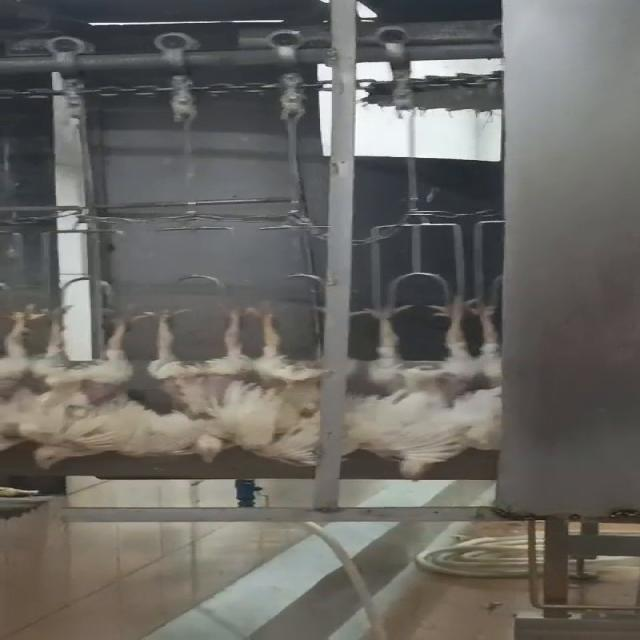chicken: (342, 290, 469, 486), (19, 303, 154, 472), (148, 301, 256, 467), (233, 302, 323, 469), (0, 304, 39, 454), (469, 288, 504, 455)
